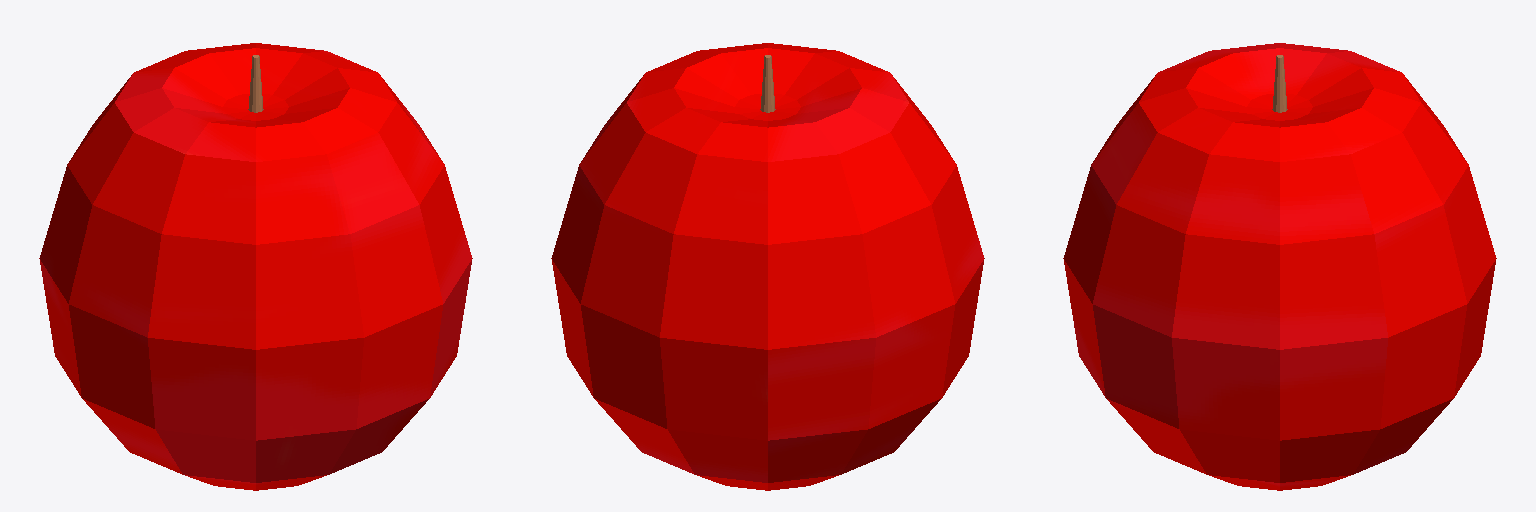
The picture shows the model from 3 angles: view 1: azimuth 30°, elevation 25°; view 2: azimuth 150°, elevation 25°; view 3: azimuth 270°, elevation 25°; orthographic projection.
Visible parts, largest first — view 1: Cylinder; view 2: Cylinder; view 3: Cylinder.
Part boxes in pixels (bbox=[...]): Cylinder: bbox=[39, 43, 472, 490]; Cylinder: bbox=[551, 43, 984, 490]; Cylinder: bbox=[1063, 43, 1496, 490].
Bounding box in the file's own units: 0.3533 × 0.3596 × 0.3533.
Materials: 1 (1 with a texture image).